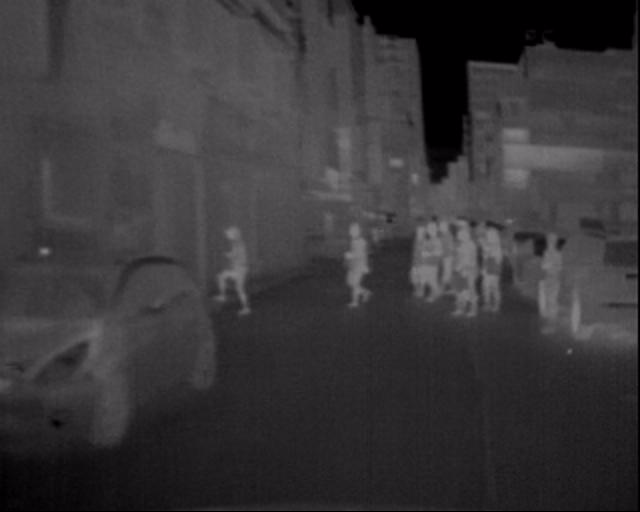person: (393, 200, 476, 322), (530, 218, 574, 331), (334, 205, 373, 320), (210, 224, 244, 313)
